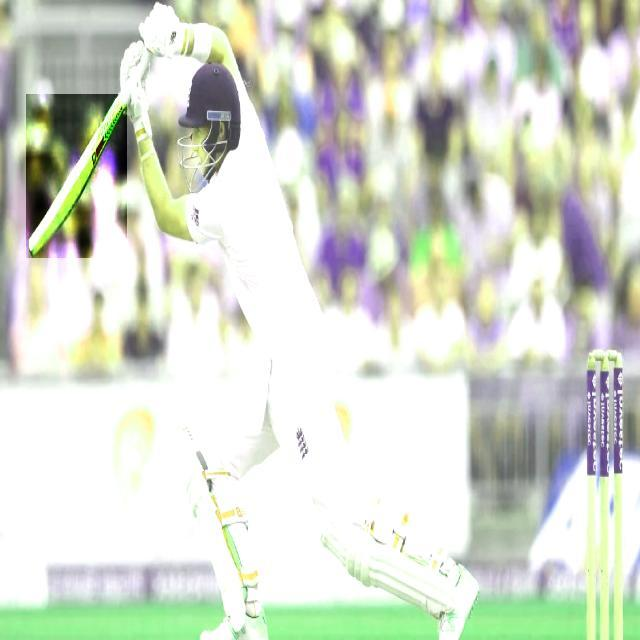bat: (24, 93, 128, 258)
toe: (20, 239, 41, 259)
